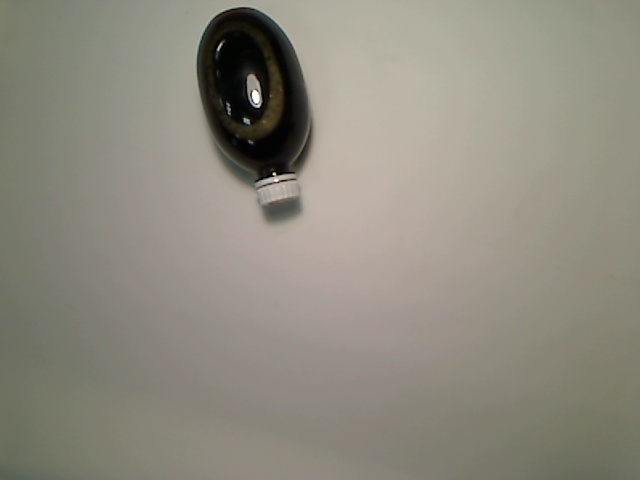plast_bottle: (195, 6, 313, 207)
